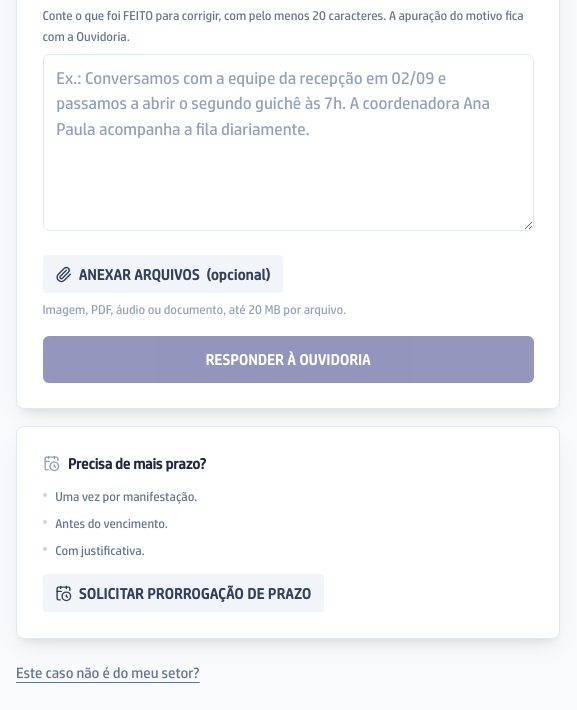
Scenario: a Devolução à Ouvidoria (issue #600) › o link abre o campo do motivo e o botão de devolver, que não estavam na tela
(page scrolled)
Expected: the field labelled "por que este caso não é da sua área" is not shown
Click the button with test id "abrir-devolucao": (108, 673) [16,662,200,684]
(page scrolled)
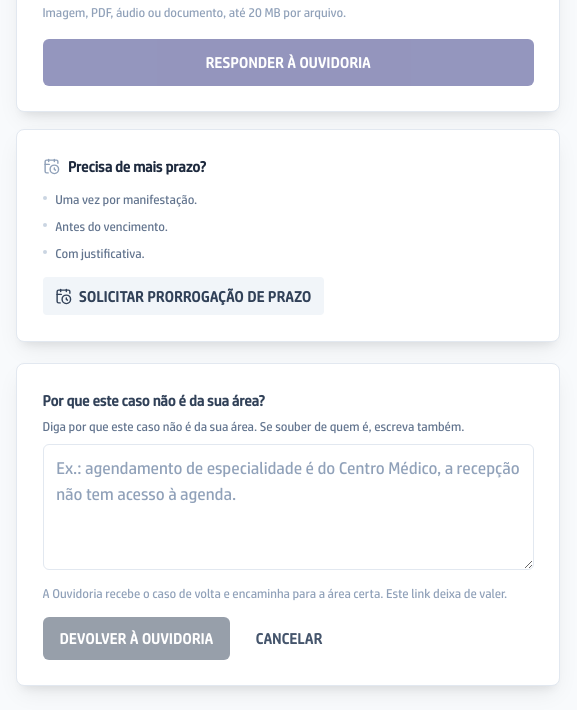
Now the text box labelled "Por que este caso não é da sua área?" is shown, box [42,444,534,570]
Now the button "Devolver à Ouvidoria" is shown, box [42,617,230,660]
